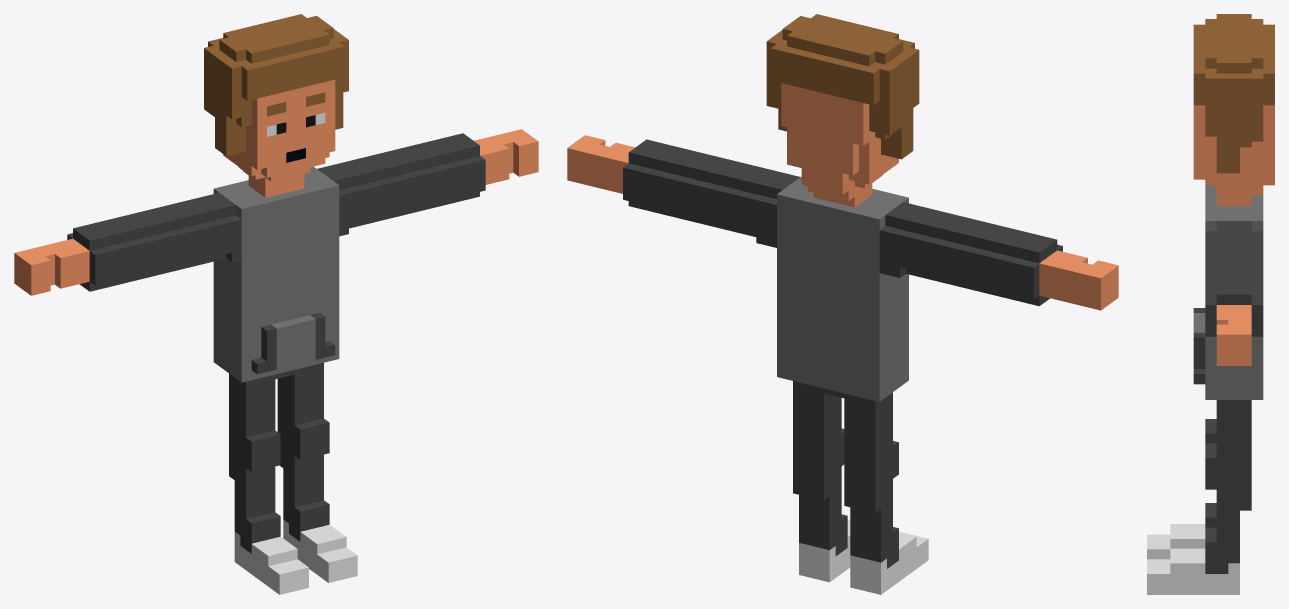
File: hero_full.obj
The picture shows the model from 3 angles, left to right: view 1: azimuth 30°, elevation 25°; view 2: azimuth 150°, elevation 25°; view 3: azimuth 270°, elevation 25°; orthographic projection. The views are drawn at different scales.
Size of the model in its own units: 5.2 by 5.1 by 1.1.
1 material, 1 textured.
